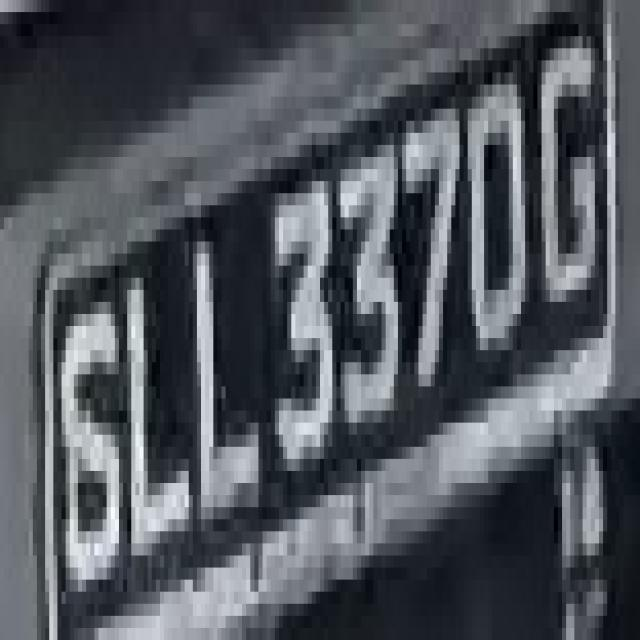0: (456, 61, 530, 374)
3: (328, 109, 406, 446), (266, 157, 341, 495)
7: (386, 72, 460, 410)
G: (534, 36, 608, 314)
L: (176, 217, 262, 544), (123, 230, 193, 556)
S: (49, 241, 127, 604)
